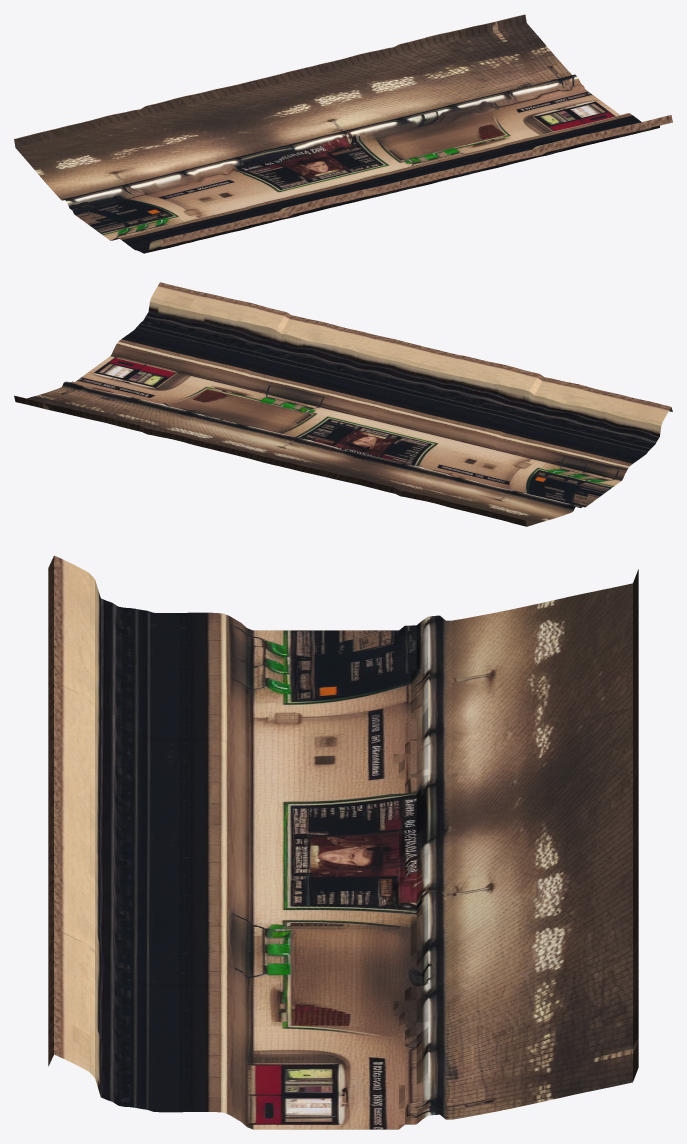
File: Metro.fbx
3 renders of one model, top to bottom at view 1: azimuth 30°, elevation 25°; view 2: azimuth 150°, elevation 25°; view 3: azimuth 270°, elevation 25°, orthographic. The views are drawn at different scales.
Parts seen in each view (by area): view 1: Relief_2_5D; view 2: Relief_2_5D; view 3: Relief_2_5D.
Boxes of the visible parts, box(x1,y1,x2,y2) form: Relief_2_5D: box(14, 14, 672, 253); Relief_2_5D: box(14, 282, 672, 526); Relief_2_5D: box(48, 555, 638, 1129).
Size of the model in its own units: 4 by 0.2906 by 2.
Materials: 1 (1 with a texture image).
